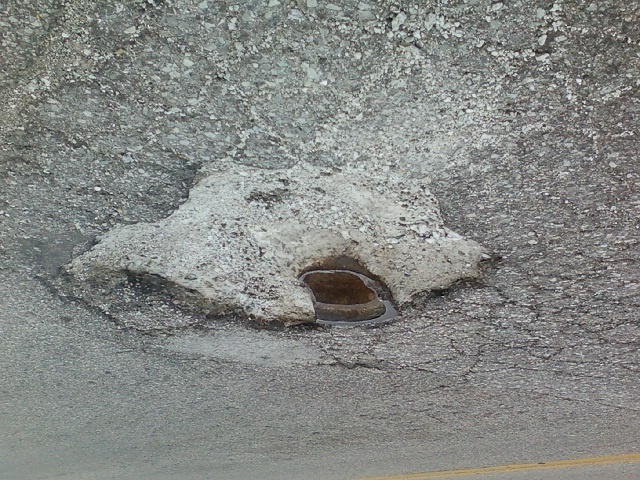pothole: (57, 148, 502, 326)
